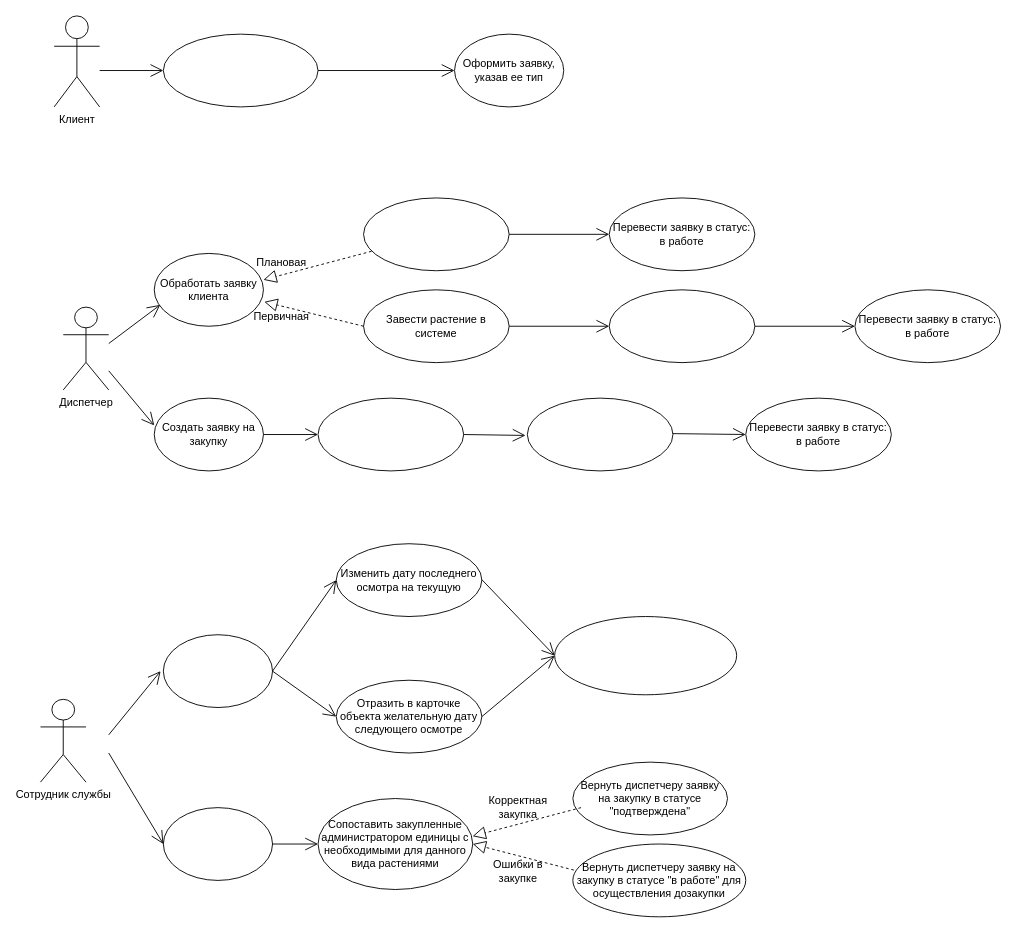
Image size: 1016x933. Some labels were removed from this diagram. The shapes that lost their labels are listed below. From the top down, each one's box as (x1, y1, x2, y2) in pixels, then its label:
(162, 33, 318, 107): Создать заявку
(363, 197, 509, 271): Закрепить за заявкой садовника
(608, 289, 755, 363): Осуществить закупку
(317, 397, 464, 471): Закупить ресурсы с учетом их наличия в каталоге
(526, 397, 673, 471): Передать закупку на проверку
(162, 634, 273, 708): Выполнить заявку
(554, 616, 737, 695): Перевести заявку в статус: выполнена
(162, 807, 273, 880): Проверить закупку
